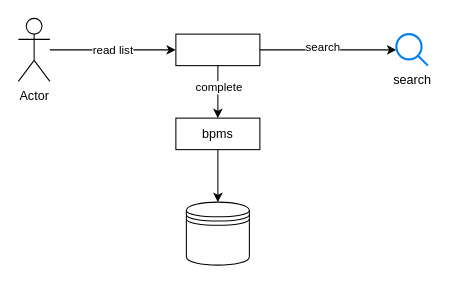
The diagram is 449 pixels wide and 284 high, and some of its shapes have lost their labels. Each missing label, with the centre of its shape:
DB: point 217,233
form: point 217,49
